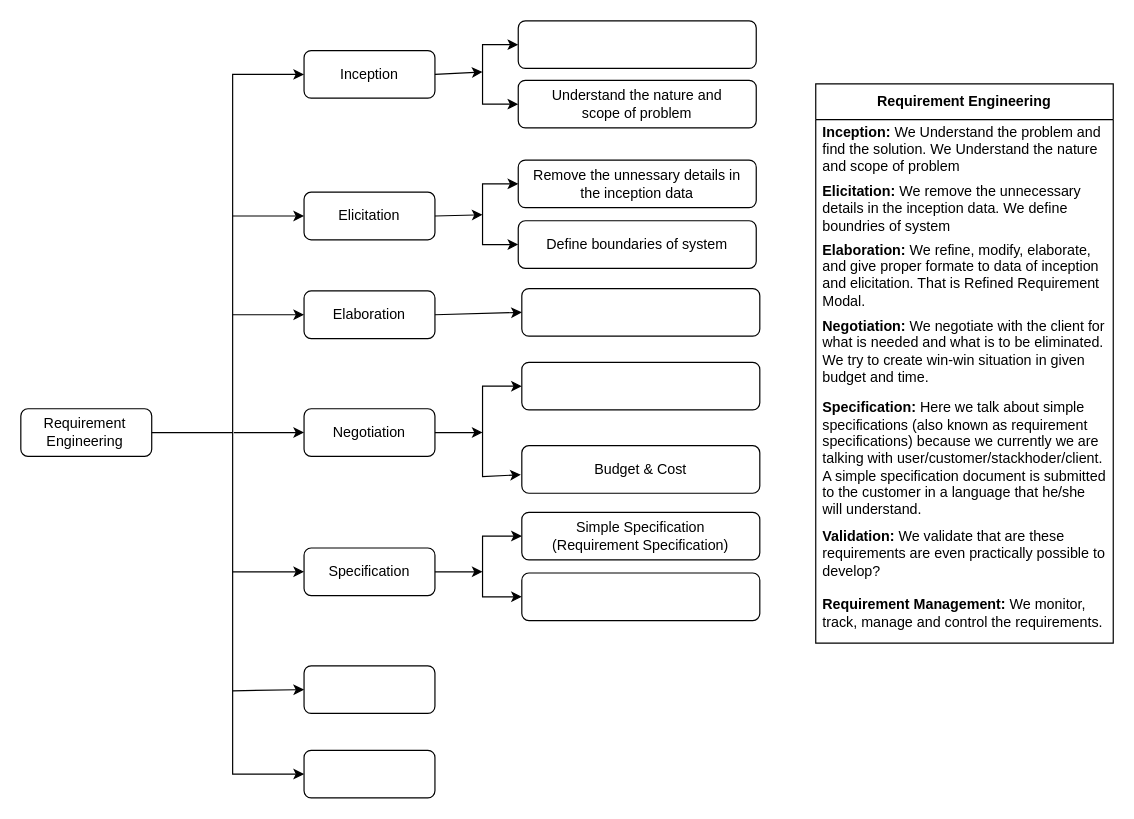
This 1134x819 diagram has some shape labels left out. Here are the shapes that lost their labels. From the top down, the centre of each, then its label:
At pixel 636 44: "Understand the problem and find the solution".
At pixel 640 311: "Refined Requirement Modal (RRM)".
At pixel 640 385: "Availability of Resources".
At pixel 640 596: "Non-functional requirements in lay-man way".
At pixel 369 689: "Validation".
At pixel 369 773: "Requirement Management".
